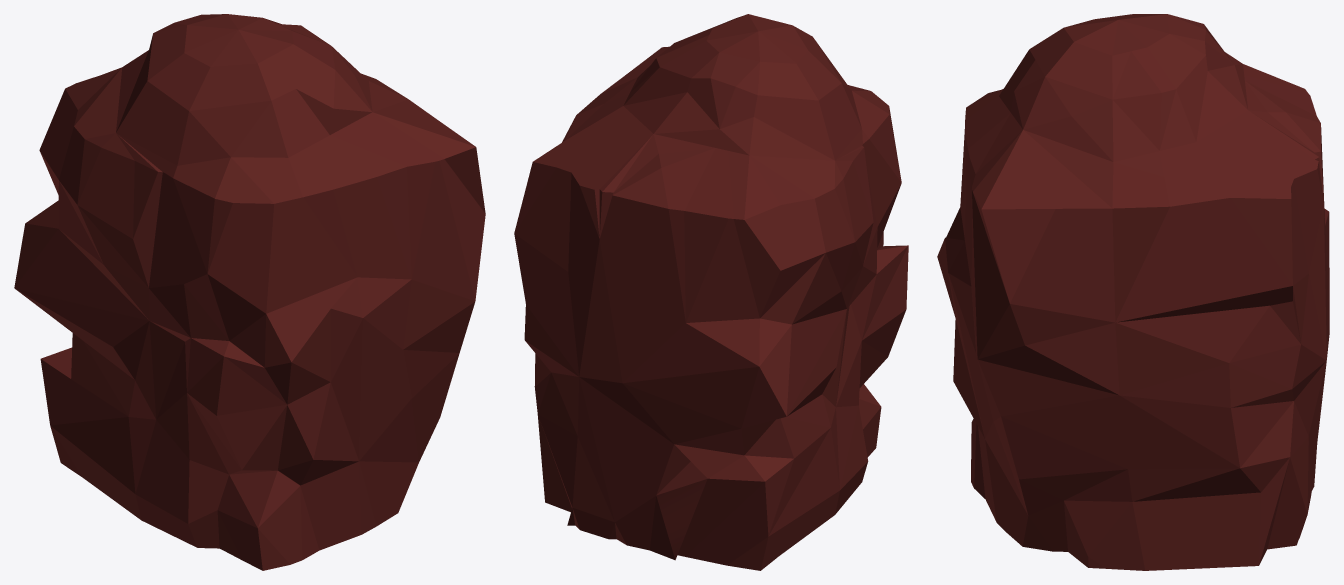
The model's file is Rock_2_Cup.fbx.
The picture shows the model from 3 angles, left to right: view 1: azimuth 30°, elevation 25°; view 2: azimuth 150°, elevation 25°; view 3: azimuth 270°, elevation 25°; orthographic projection. The views are drawn at different scales.
Parts seen in each view (by area): view 1: Rock_2_Cup; view 2: Rock_2_Cup; view 3: Rock_2_Cup.
Boxes of the visible parts, x1,y1,x2,y2 form: Rock_2_Cup: [14, 14, 485, 570]; Rock_2_Cup: [514, 14, 908, 570]; Rock_2_Cup: [937, 14, 1329, 570].
Size of the model in its own units: 15.12 by 21.23 by 15.97.
